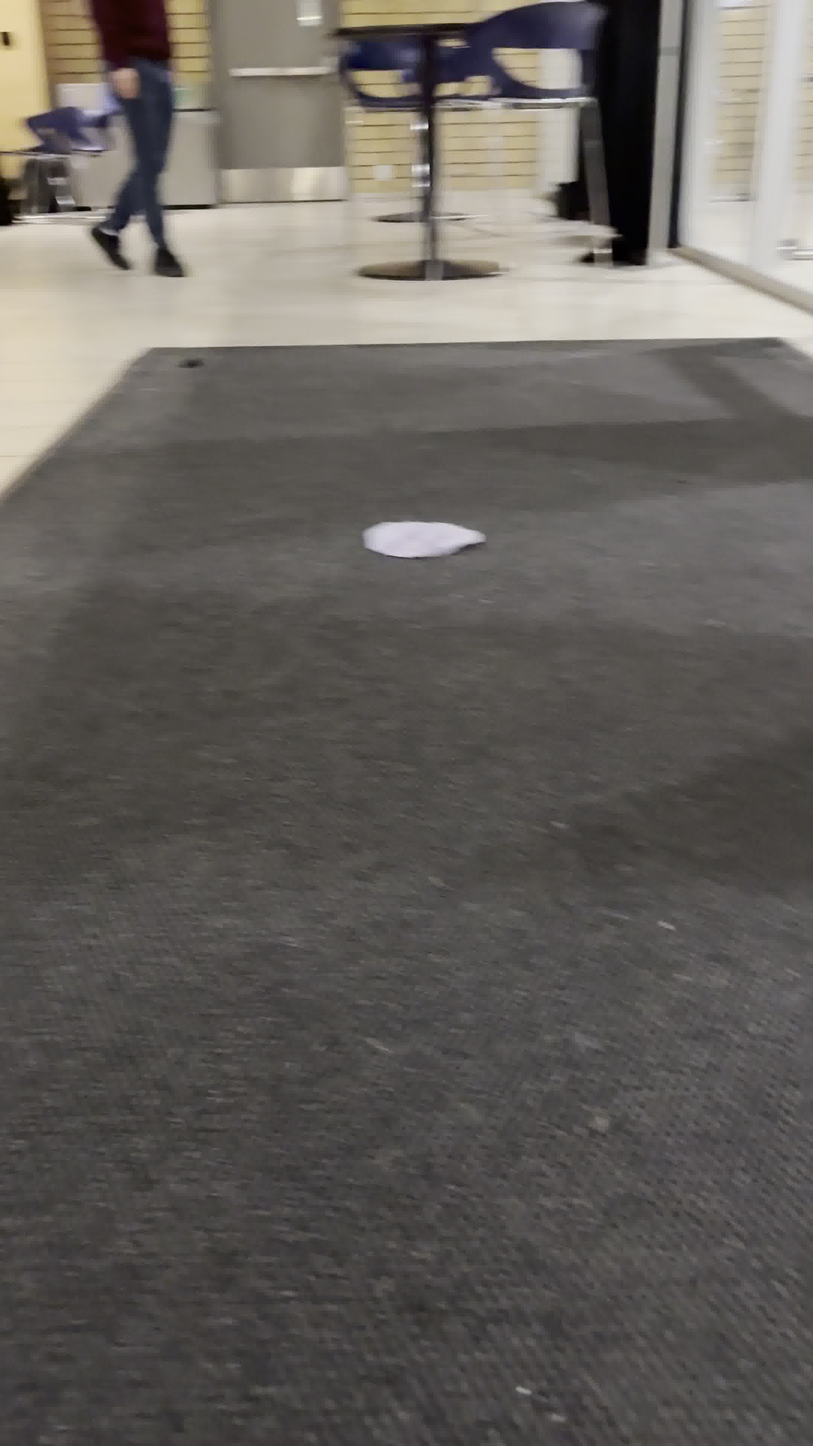Target: (360, 512, 493, 563)
